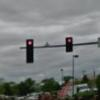traffic lights: (24, 38, 35, 64), (66, 34, 73, 52)
